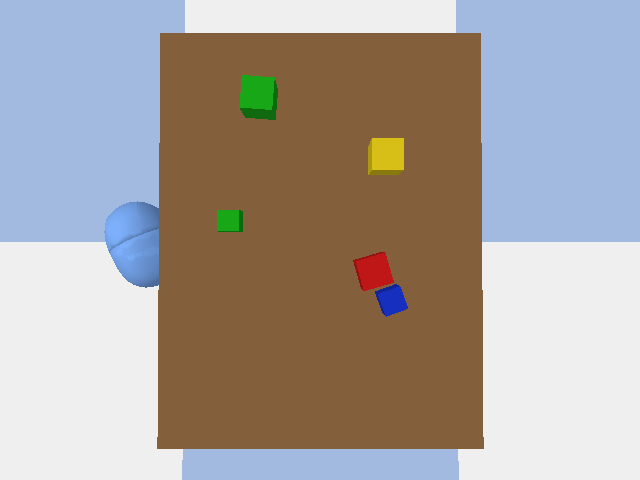blue_obj: (375, 284, 407, 316)
green_obj: (239, 75, 277, 119), (217, 210, 242, 231)
red_obj: (353, 252, 393, 290)
yellow_obj: (368, 138, 403, 174)
